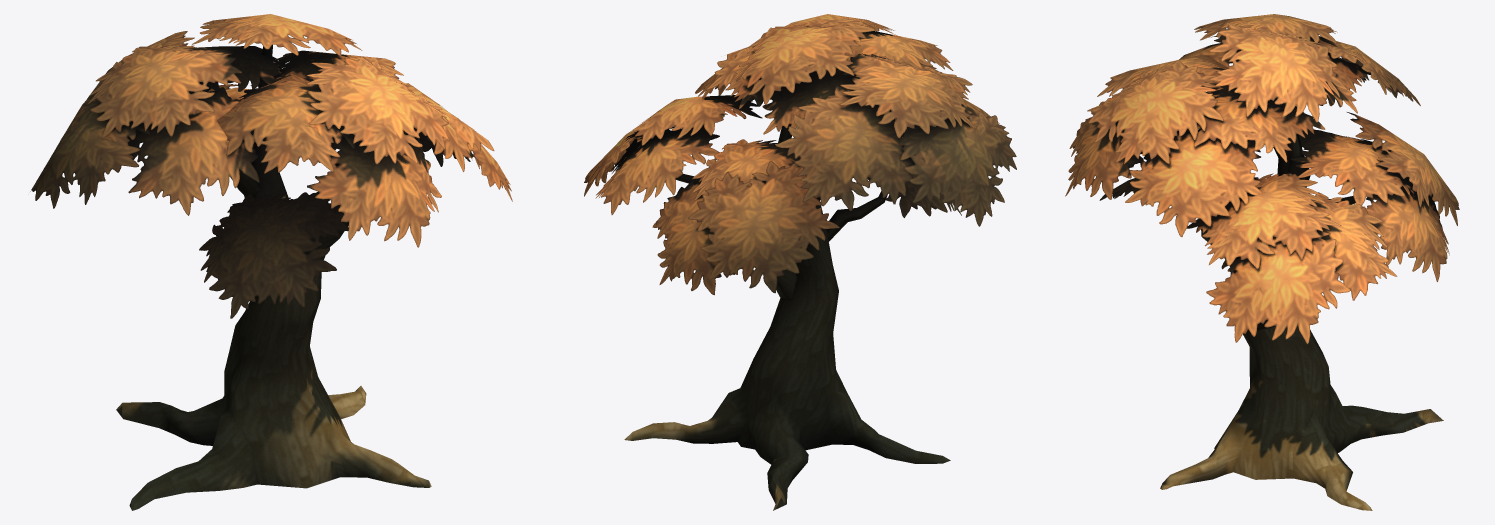
The model's file is Mod_WM_Tree_Pine_08.fbx.
3 renders of one model, left to right at view 1: azimuth 30°, elevation 25°; view 2: azimuth 150°, elevation 25°; view 3: azimuth 270°, elevation 25°, orthographic. The views are drawn at different scales.
Parts seen in each view (by area): view 1: polySurface123; view 2: polySurface123; view 3: polySurface123.
Boxes of the visible parts, x1,y1,x2,y2 form: polySurface123: [30, 14, 512, 510]; polySurface123: [584, 14, 1016, 510]; polySurface123: [1065, 14, 1459, 510].
Size of the model in its own units: 258 by 237 by 225.
Materials: 1 (1 with a texture image).
